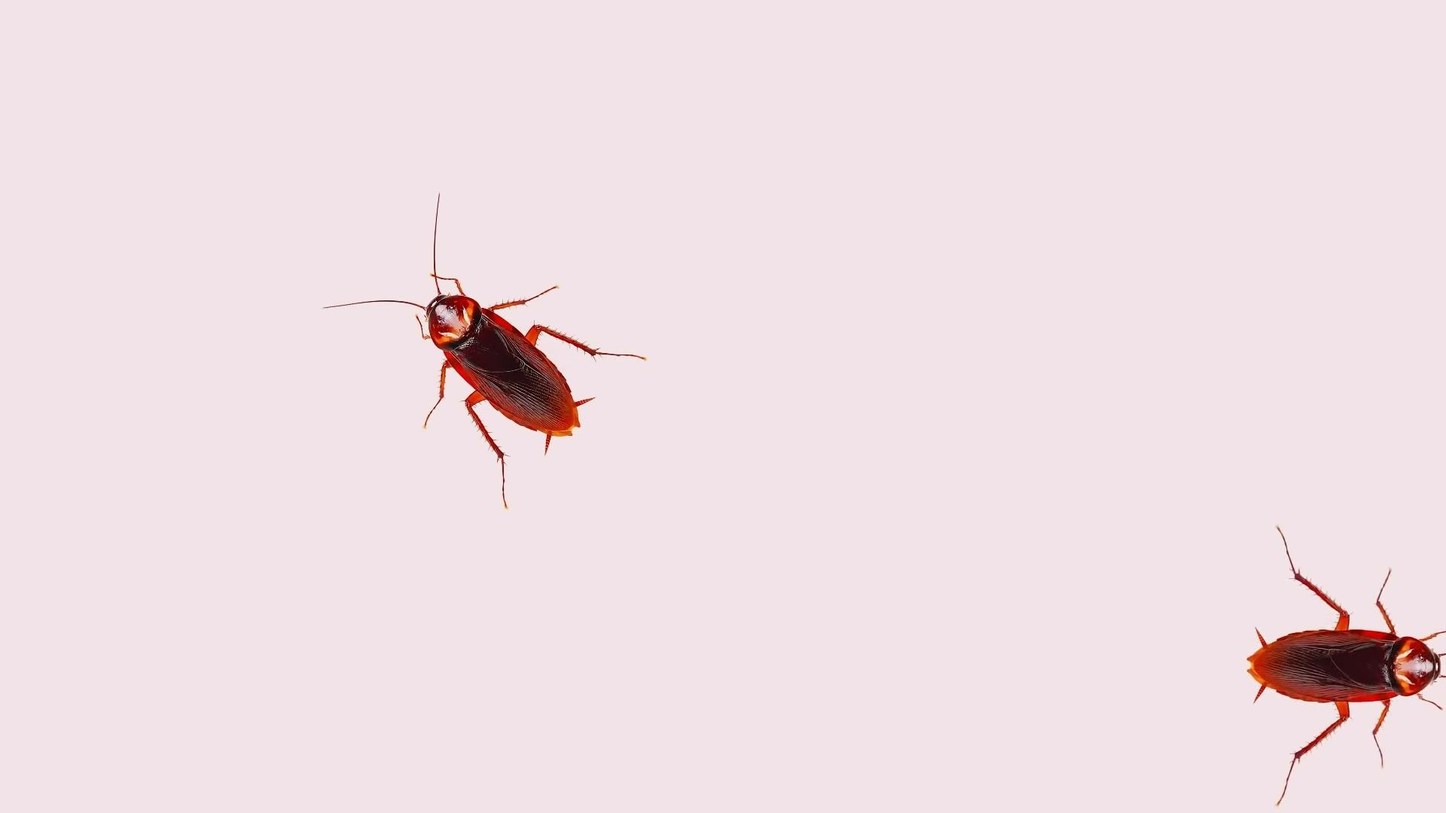cockroach: (302, 197, 628, 516), (1226, 513, 1446, 778)
